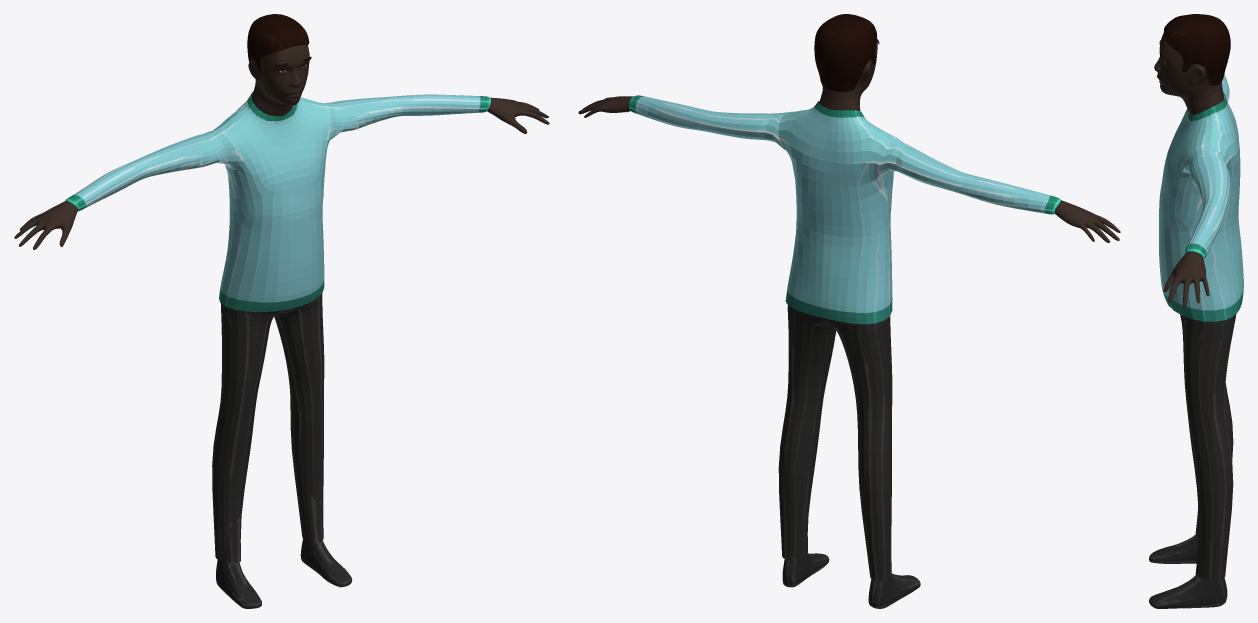
The model's file is NPC_mouth_open.fbx.
The picture shows the model from 3 angles, left to right: view 1: azimuth 30°, elevation 25°; view 2: azimuth 150°, elevation 25°; view 3: azimuth 270°, elevation 25°; orthographic projection.
Parts seen in each view (by area): view 1: Human 2; view 2: Human 2; view 3: Human 2.
Part boxes in pixels (left/top/right/bottom): Human 2: left=14, top=14, right=549, bottom=608; Human 2: left=578, top=14, right=1120, bottom=608; Human 2: left=1149, top=14, right=1243, bottom=608.
Size of the model in its own units: 165 by 167 by 25.44.
